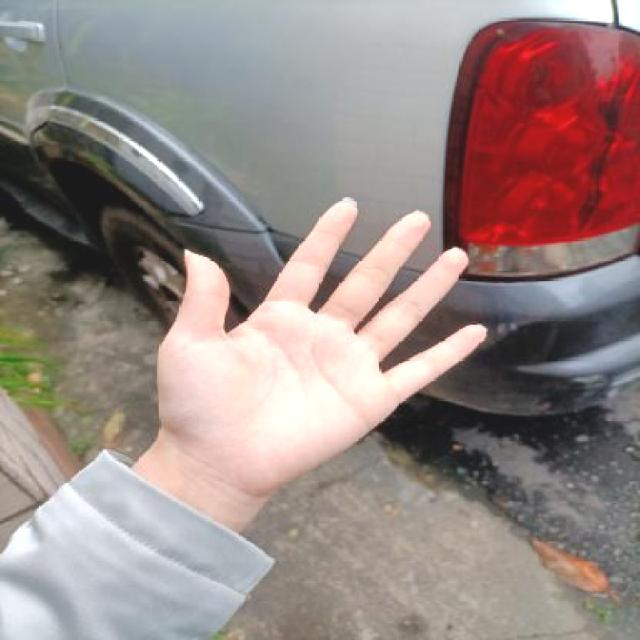no_glove: (138, 178, 496, 507)
